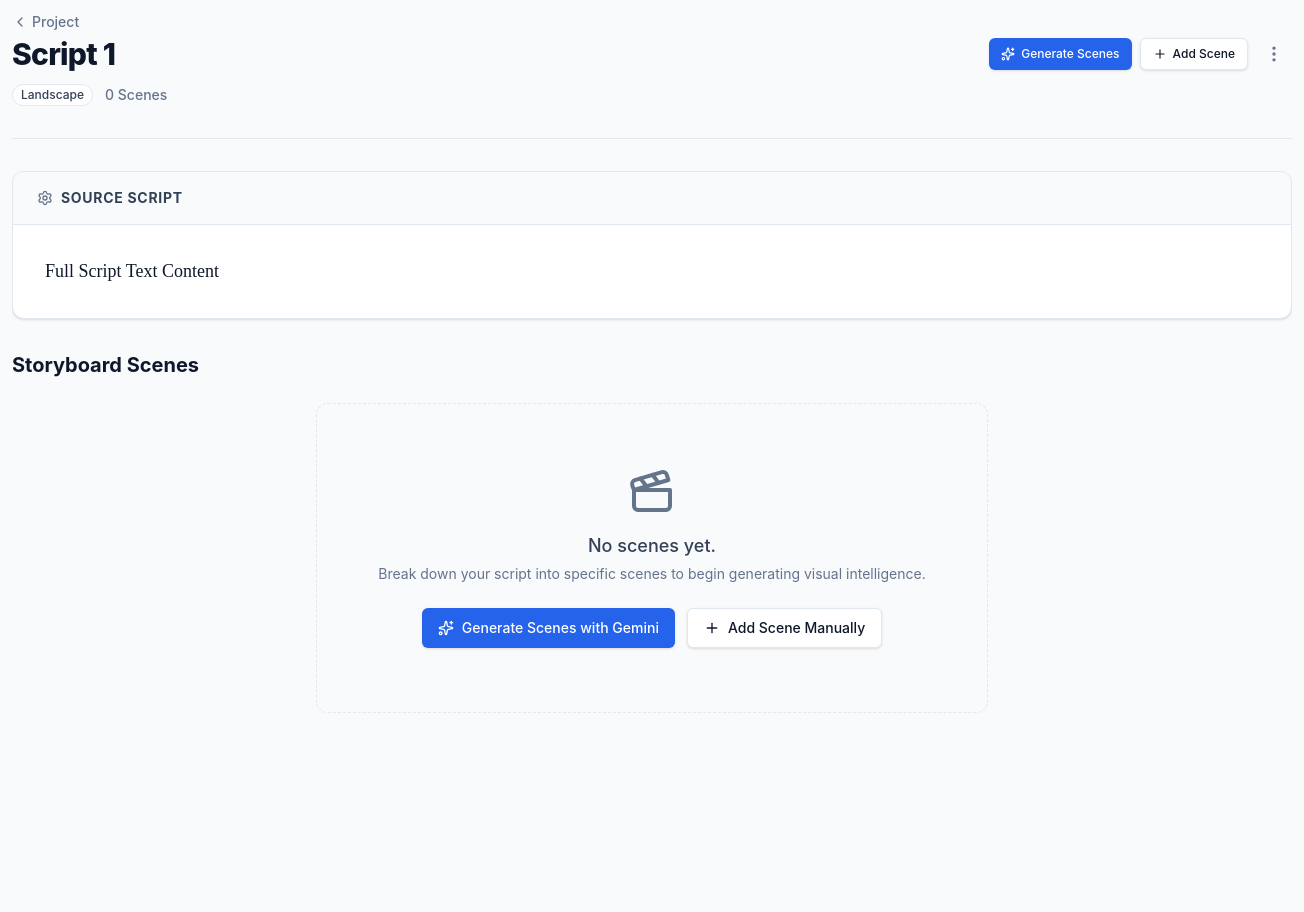
it: ScriptPage Component › handles generate scenes success
expect the text "No scenes yet." is shown: met, box [588, 535, 716, 556]
# Click Generate Scenes
Click the button "Generate Scenes with Gemini".
click(548, 628)  # box [422, 608, 675, 648]
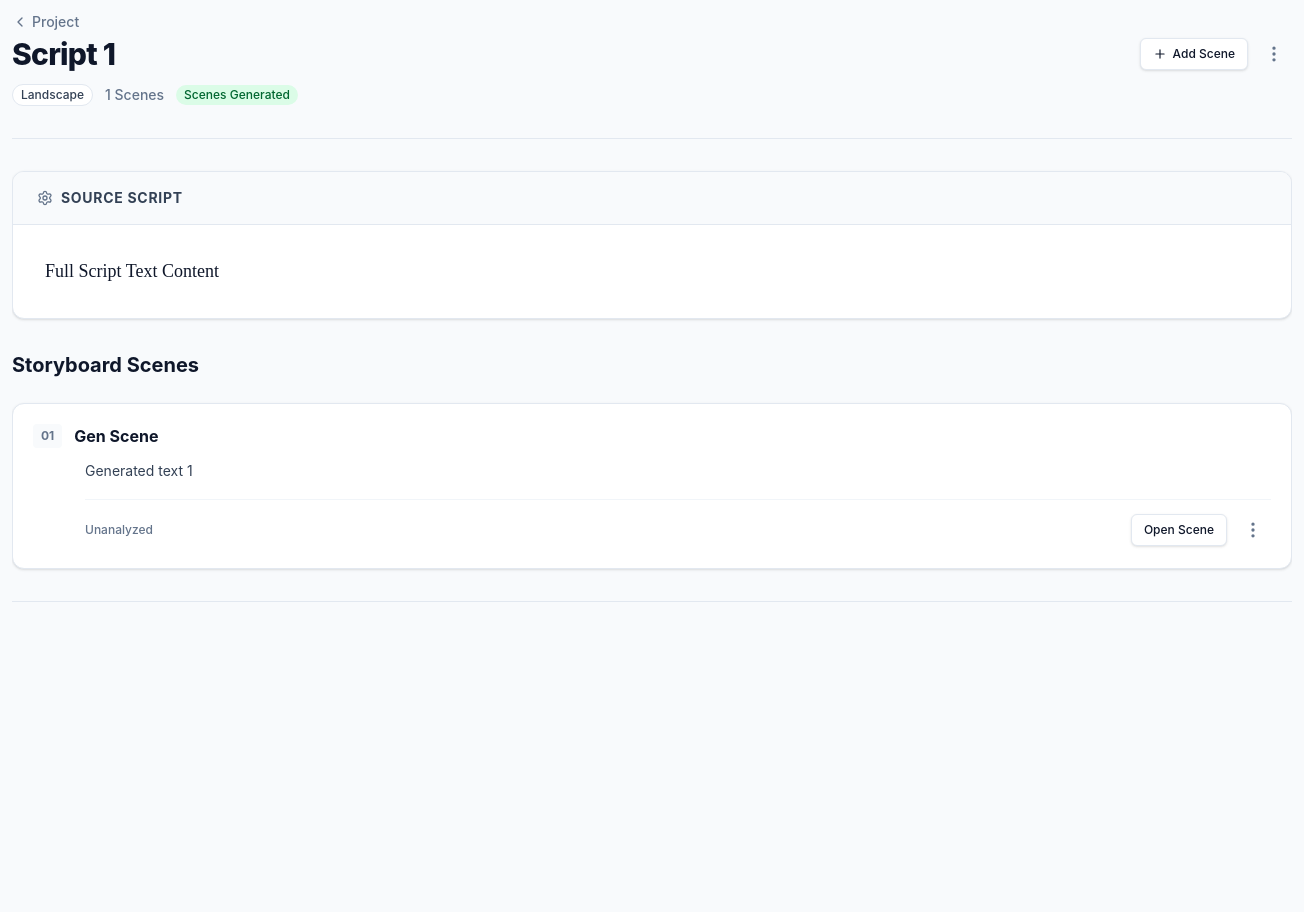
expect the heading "Gen Scene" is shown: met, box [74, 424, 158, 448]
expect the text "Generated text 1" is shown: met, box [85, 462, 193, 479]
